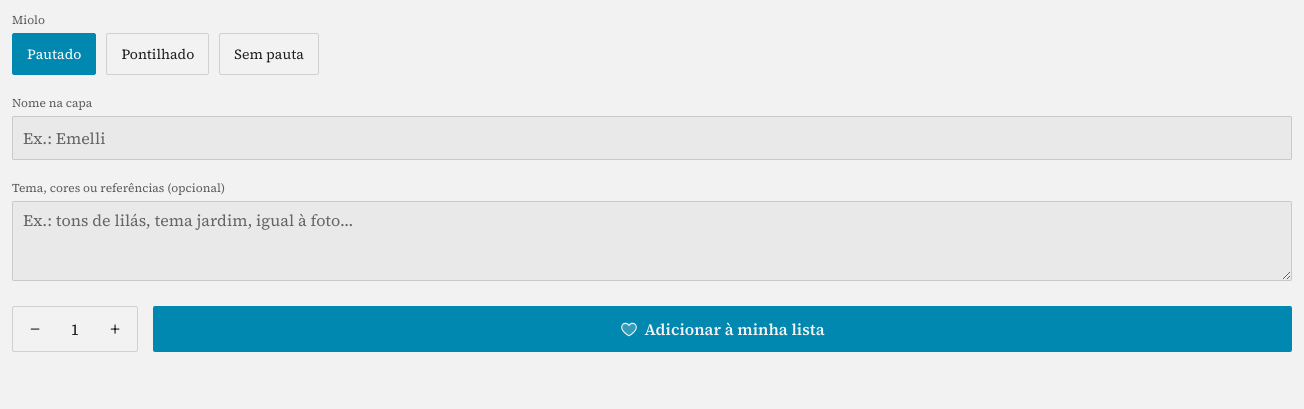
Test case: ProductForm › adds the customized product to the list and clears the text fields
Click the radio button labelled "Pontilhado" at [158, 54], box [106,33,209,75]
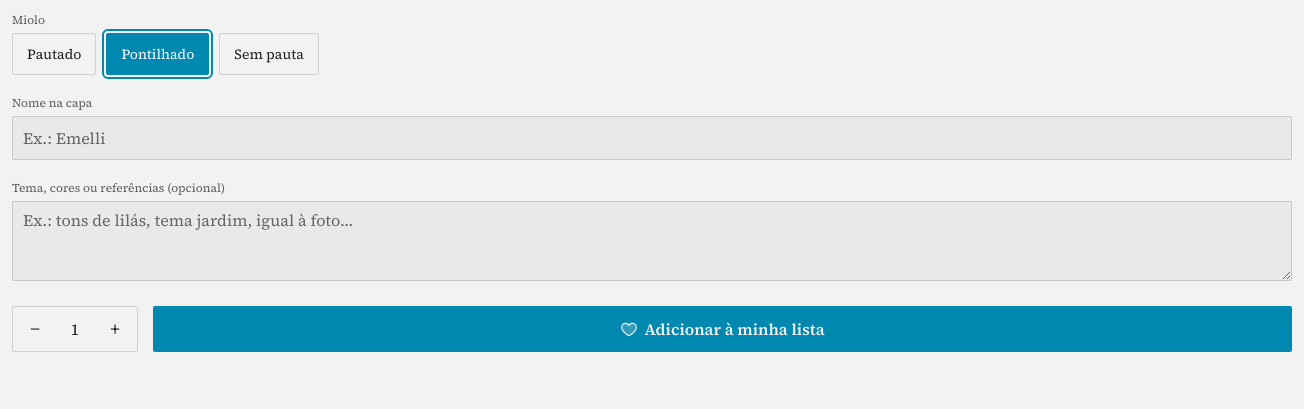
Type "Emelli" into the field labelled "Nome na capa" at [652, 138], box [12,116,1292,160]
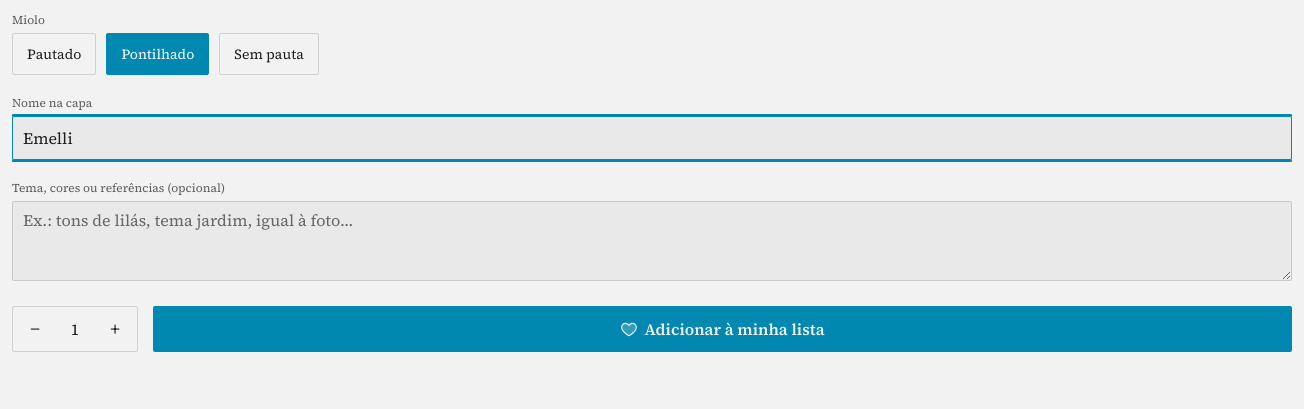
Type "lilás" into the text box labelled "Tema, cores ou referências (opcional)" at [652, 241], box [12,201,1292,281]
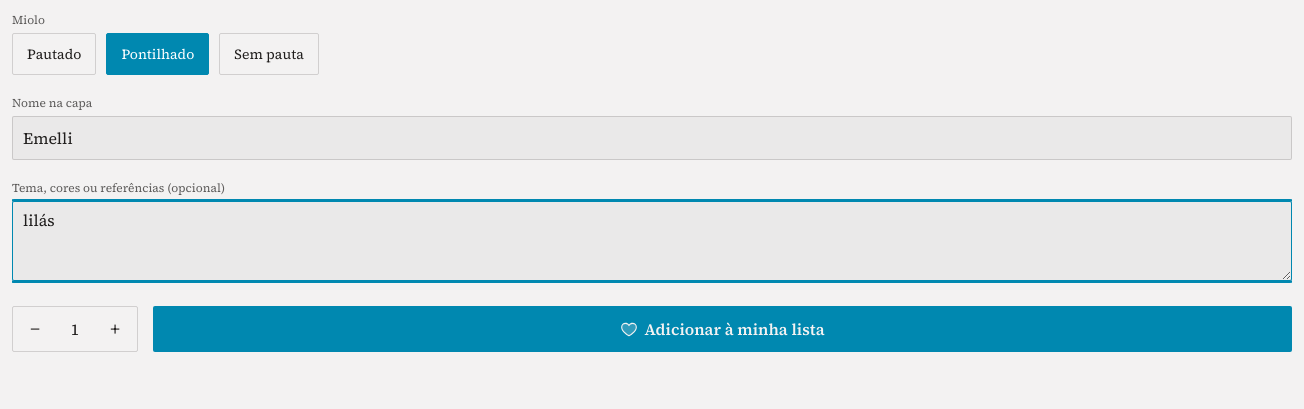
Click the button named "Aumentar" at [115, 329], box [93,307,137,351]
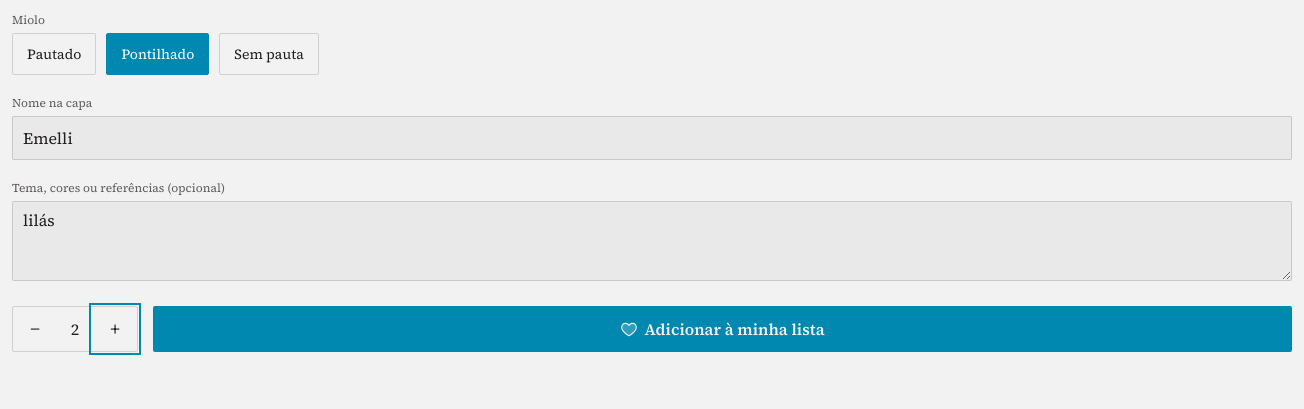
Click the button "Adicionar à minha lista" at [722, 329], box [153,306,1292,352]
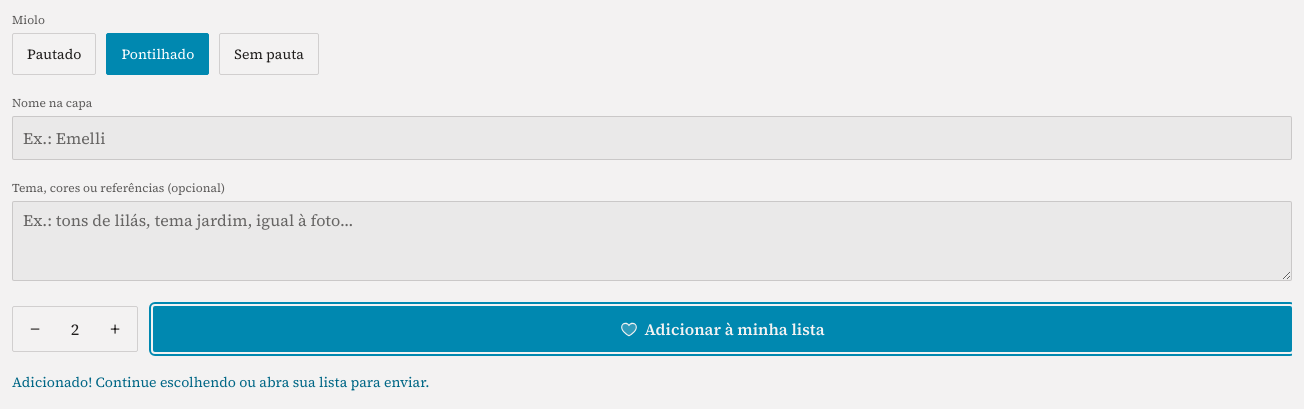
Expected: the message shows "Adicionado!", [12,372,430,392]
Expected: the field labelled "Nome na capa" is empty, [12,116,1292,160]
